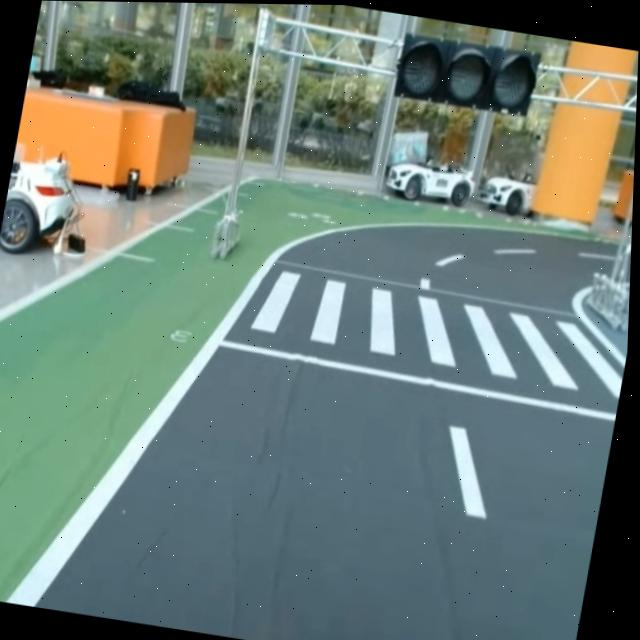traffic-light: (386, 26, 547, 122)
